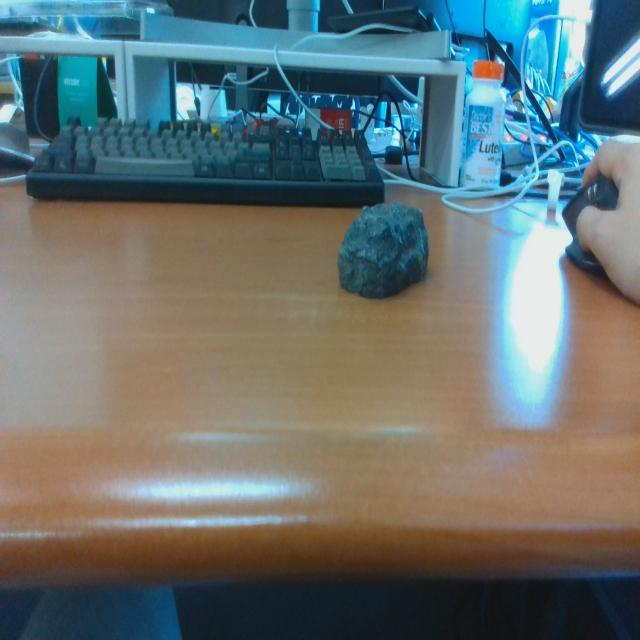stone: (336, 201, 429, 301)
